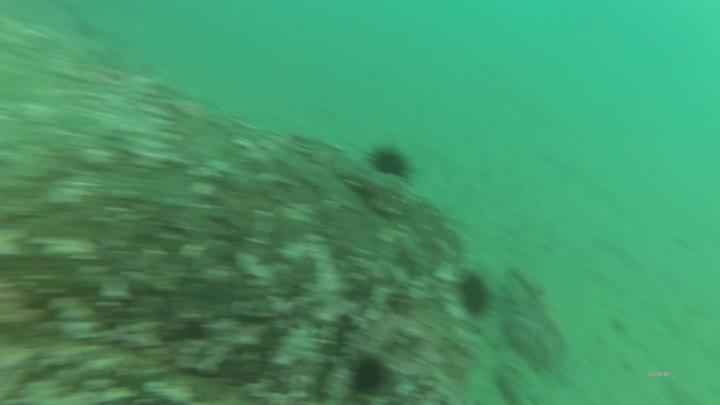echinus: (347, 353, 391, 401), (460, 271, 492, 321), (373, 147, 410, 181)
